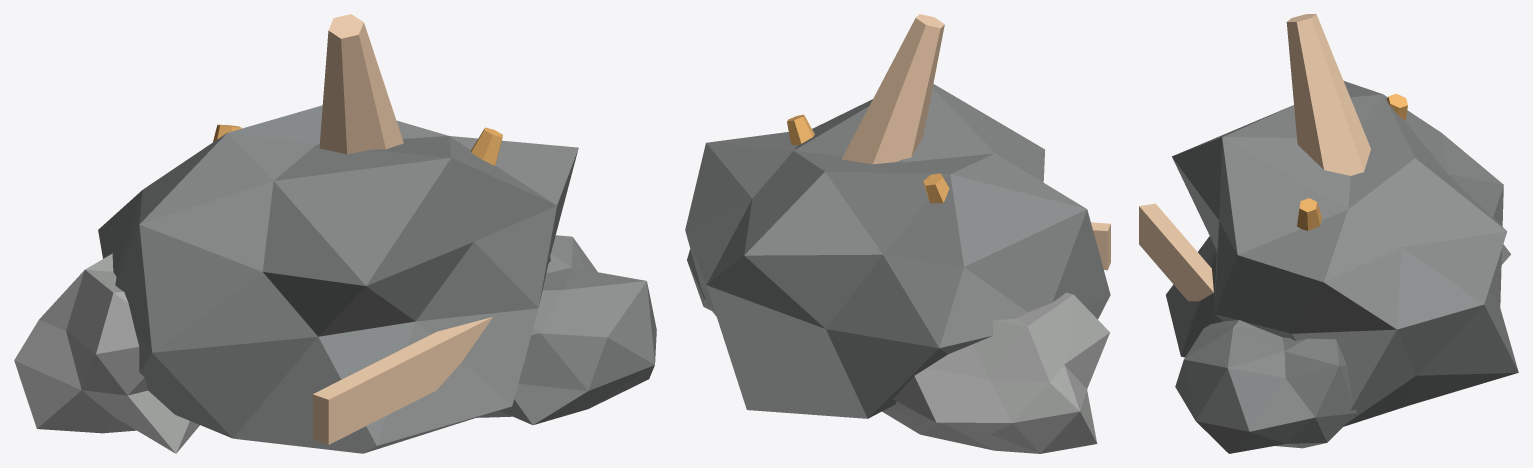
File: t6_ore_full.glb
3 views of the same model, side by side, from view 1: azimuth 30°, elevation 25°; view 2: azimuth 150°, elevation 25°; view 3: azimuth 270°, elevation 25° (orthographic). The views are drawn at different scales.
Parts seen in each view (by area): view 1: OreHostCenter, OreHostLeft, OreHostRight, FrontOreVein, CenterOreShard, RightOreShard; view 2: OreHostCenter, OreHostLeft, CenterOreShard, FrontOreVein, RightOreShard, LeftOreShard; view 3: OreHostCenter, OreHostRight, CenterOreShard, FrontOreVein, RightOreShard.
Boxes of the visible parts, <box> form: OreHostCenter: <box>98,105,578,453</box>; OreHostLeft: <box>14,253,199,453</box>; OreHostRight: <box>476,235,656,424</box>; FrontOreVein: <box>312,317,492,444</box>; CenterOreShard: <box>319,14,403,154</box>; RightOreShard: <box>471,127,502,165</box>; OreHostCenter: <box>685,84,1110,418</box>; OreHostLeft: <box>882,292,1109,453</box>; CenterOreShard: <box>841,14,944,164</box>; FrontOreVein: <box>1091,222,1110,270</box>; RightOreShard: <box>787,114,814,145</box>; LeftOreShard: <box>923,173,949,203</box>; OreHostCenter: <box>1166,81,1518,426</box>; OreHostRight: <box>1175,320,1356,453</box>; CenterOreShard: <box>1286,14,1370,175</box>; FrontOreVein: <box>1139,203,1213,301</box>; RightOreShard: <box>1297,198,1321,230</box>.
Size of the model in its own units: 1.48 by 1.1 by 1.08.
